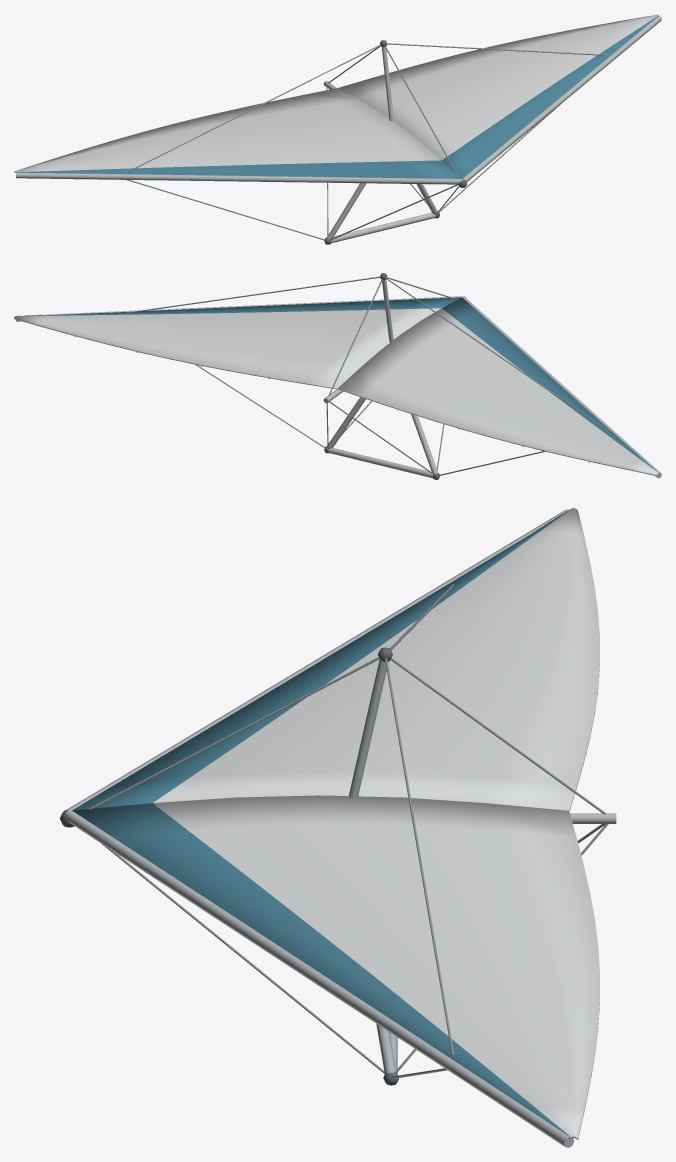
Rendered from NEW469_hang_glider_LOD2.glb.
3 views of the same model, one above another, from view 1: azimuth 30°, elevation 25°; view 2: azimuth 150°, elevation 25°; view 3: azimuth 270°, elevation 25° (orthographic). The views are drawn at different scales.
Parts seen in each view (by area): view 1: Left closed sail, Right closed sail, Leading edge spar, Leading edge spar.001, Control basebar, Upper side wire, Upper side wire.001, Control-frame upright, Lower side wire, Kingpost; view 2: Left closed sail, Right closed sail, Control basebar, Leading edge spar, Leading edge spar.001, Upper side wire.001, Upper side wire, Control-frame upright, Control-frame upright.001, Kingpost; view 3: Right closed sail, Left closed sail, Leading edge spar.001, Leading edge spar, Kingpost, Upper side wire.001, Forward lower wire.001, Upper front wire.
Boxes of the visible parts, bbox=[...] form: Left closed sail: bbox=[14, 88, 461, 178]; Right closed sail: bbox=[338, 14, 658, 178]; Leading edge spar: bbox=[16, 172, 462, 184]; Leading edge spar.001: bbox=[462, 16, 661, 181]; Control basebar: bbox=[331, 212, 435, 243]; Upper side wire: bbox=[125, 44, 380, 172]; Upper side wire.001: bbox=[387, 43, 607, 55]; Control-frame upright: bbox=[327, 183, 366, 240]; Lower side wire: bbox=[126, 180, 325, 240]; Kingpost: bbox=[381, 47, 393, 121]; Left closed sail: bbox=[337, 297, 659, 475]; Right closed sail: bbox=[14, 297, 460, 389]; Control basebar: bbox=[328, 448, 432, 478]; Leading edge spar: bbox=[462, 296, 661, 478]; Leading edge spar.001: bbox=[16, 296, 462, 321]; Upper side wire.001: bbox=[125, 276, 379, 313]; Upper side wire: bbox=[385, 278, 607, 430]; Control-frame upright: bbox=[411, 414, 438, 473]; Control-frame upright.001: bbox=[327, 397, 365, 449]; Kingpost: bbox=[382, 279, 393, 342]; Right closed sail: bbox=[72, 795, 599, 1139]; Left closed sail: bbox=[72, 508, 599, 811]; Leading edge spar.001: bbox=[65, 810, 573, 1147]; Leading edge spar: bbox=[66, 509, 569, 810]; Kingpost: bbox=[348, 659, 388, 798]; Upper side wire.001: bbox=[385, 658, 454, 1055]; Forward lower wire.001: bbox=[102, 844, 384, 1073]; Upper front wire: bbox=[88, 657, 379, 809].
Size of the model in its own units: 10.15 by 2.89 by 3.79.
